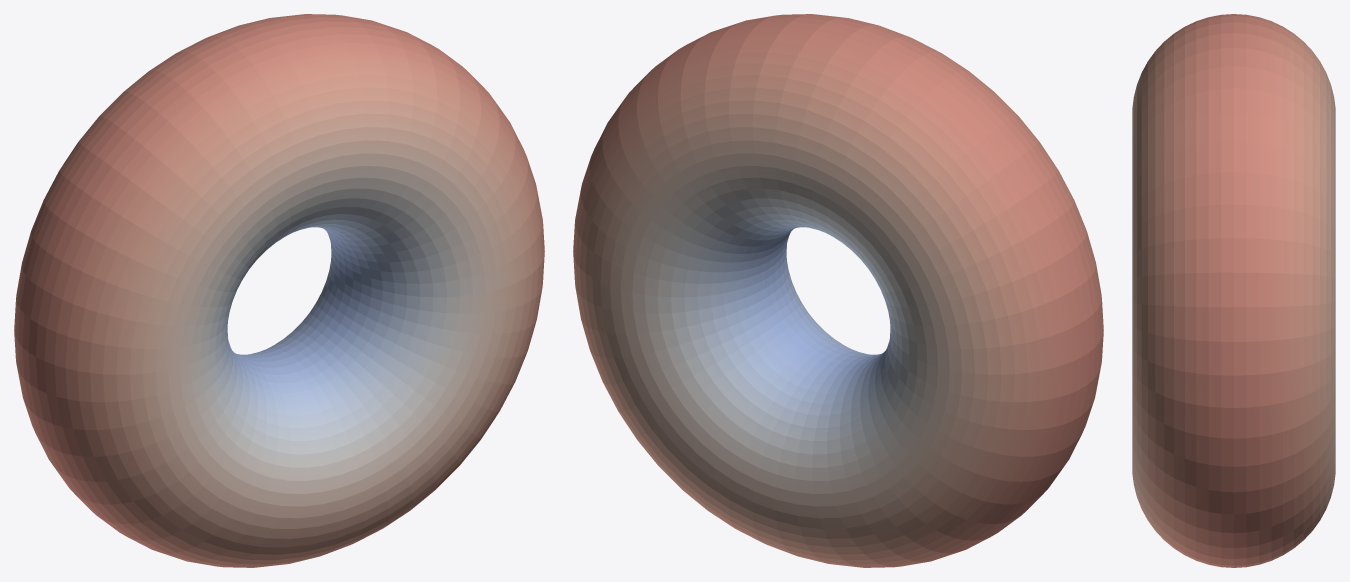
3 renders of one model, left to right at view 1: azimuth 30°, elevation 25°; view 2: azimuth 150°, elevation 25°; view 3: azimuth 270°, elevation 25°, orthographic. The views are drawn at different scales.
Visible parts, largest first — view 1: world; view 2: world; view 3: world.
Boxes of the visible parts, x1,y1,x2,y2 form: world: (14, 14, 544, 567); world: (573, 14, 1103, 567); world: (1132, 14, 1335, 567).
Bounding box in the file's own units: 24.27 × 24.22 × 8.92.
